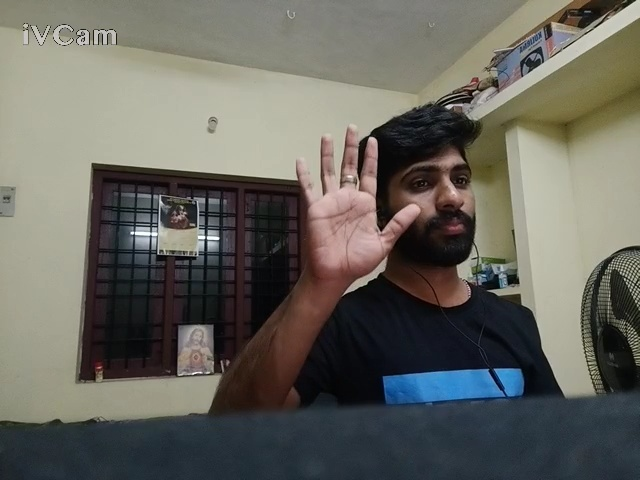Hello: (277, 116, 429, 286)
